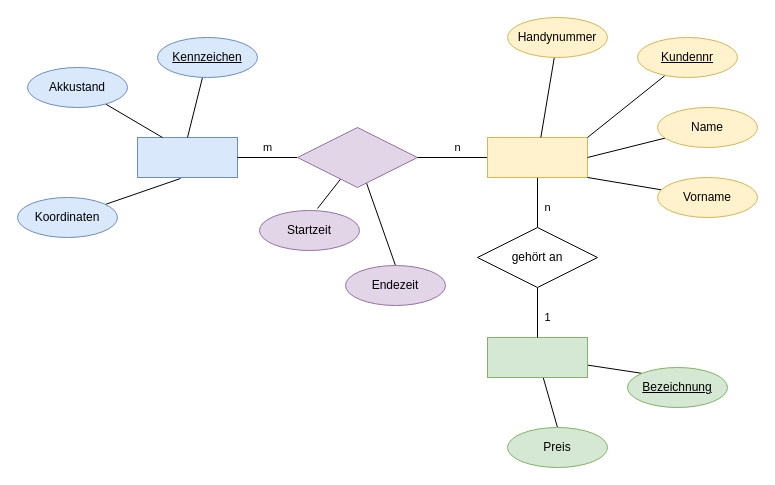
The diagram is 775 pixels wide and 485 high, and some of its shapes have lost their labels. The centre of each missing label's shape, as x and y in pixels:
eScooter: point (187, 157)
Kunde: point (537, 157)
Kundengruppe: point (537, 357)
leiht: point (357, 157)
